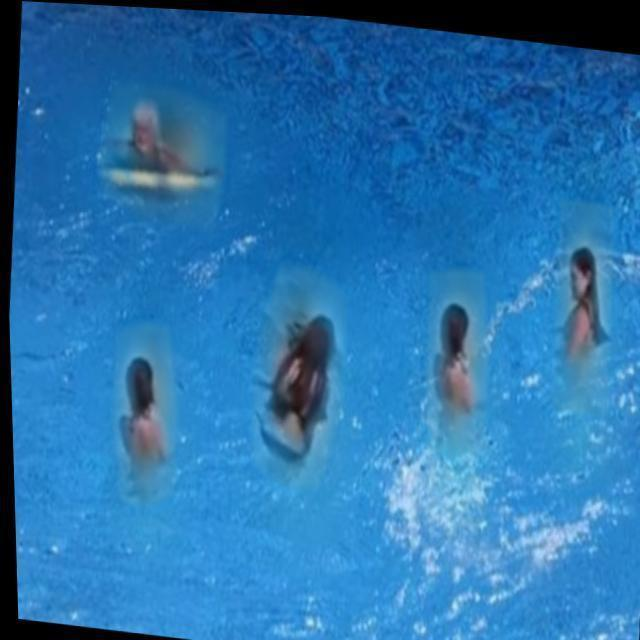swimming: (247, 272, 352, 485), (106, 329, 212, 503), (410, 268, 501, 439), (95, 90, 236, 196), (543, 213, 618, 381)
